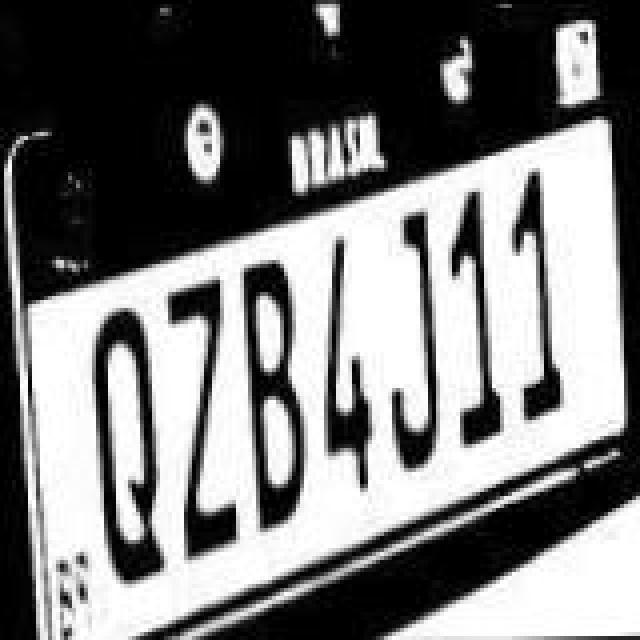1: (500, 166, 580, 418), (440, 184, 512, 440)
4: (310, 240, 382, 500)
B: (232, 256, 316, 536)
J: (372, 204, 444, 480)
Q: (80, 292, 168, 584)
Z: (162, 268, 246, 568)
